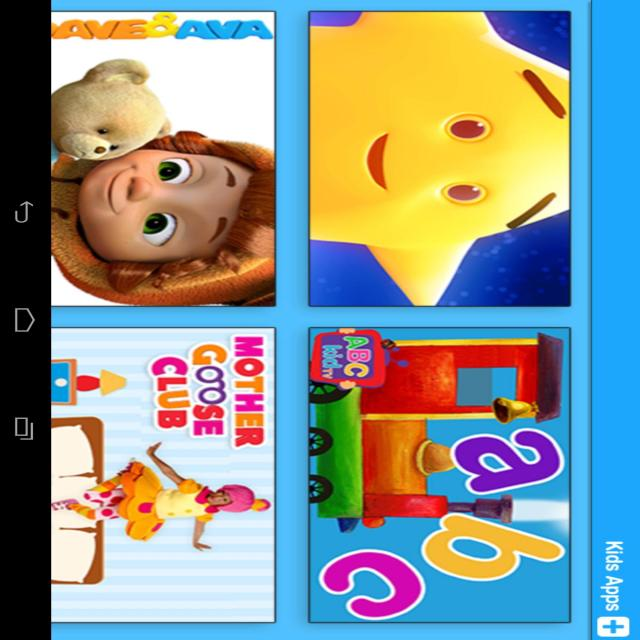button: (596, 614, 632, 638)
image: (308, 327, 570, 624), (309, 10, 570, 307), (51, 11, 278, 307), (51, 327, 277, 623)
text: (602, 539, 626, 612)
